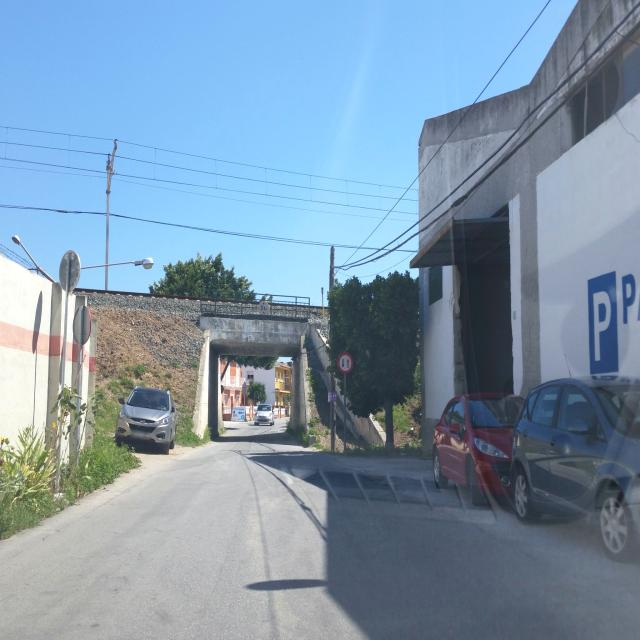car: (509, 372, 640, 562), (432, 390, 526, 508), (114, 386, 178, 455), (253, 404, 275, 426)
